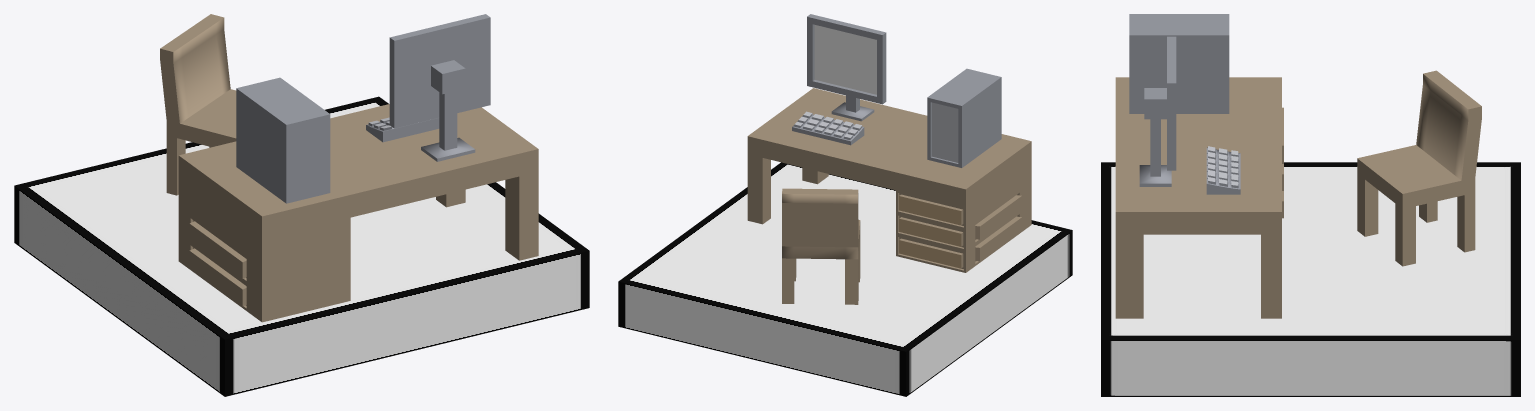
The model's file is title_desk.gltf.
3 views of the same model, side by side, from view 1: azimuth 30°, elevation 25°; view 2: azimuth 150°, elevation 25°; view 3: azimuth 270°, elevation 25° (orthographic). The views are drawn at different scales.
Visible parts, largest first — view 1: title_desk; view 2: title_desk; view 3: title_desk.
Part boxes in pixels (bbox=[...]): title_desk: bbox=[14, 14, 589, 396]; title_desk: bbox=[618, 14, 1072, 396]; title_desk: bbox=[1101, 14, 1520, 396].
Size of the model in its own units: 2 by 1.48 by 2.
Materials: 5 (1 with a texture image).
